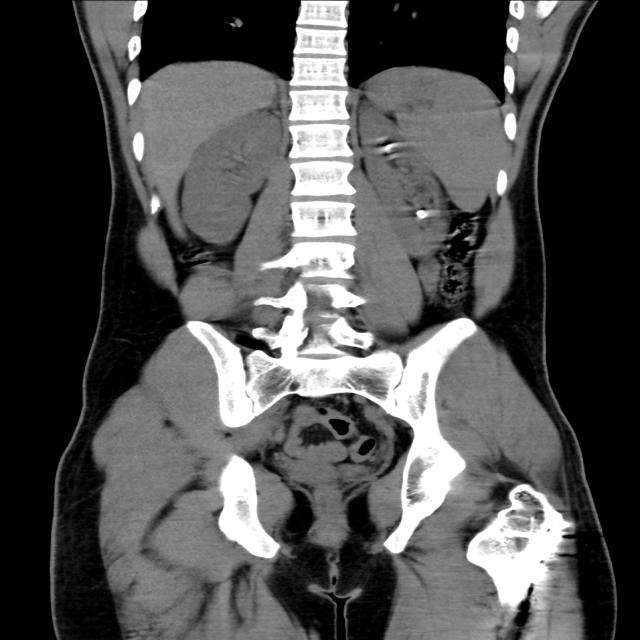kidneystone: (416, 210, 428, 219)
